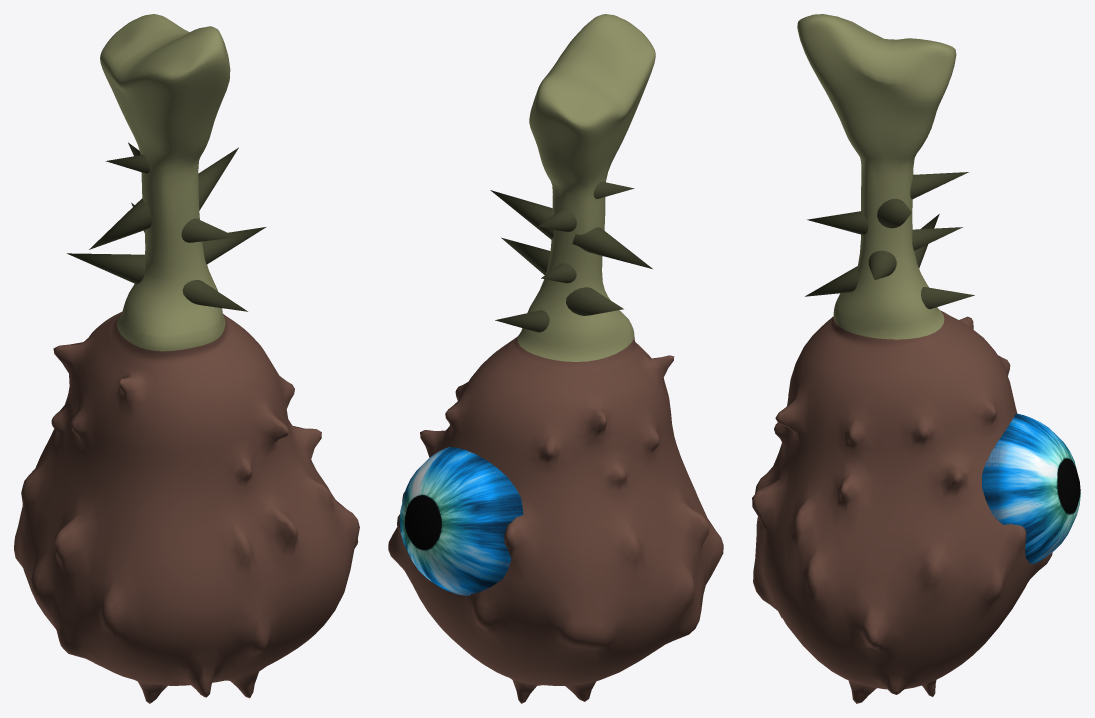
Rendered from chimkin.fbx.
The picture shows the model from 3 angles, left to right: view 1: azimuth 30°, elevation 25°; view 2: azimuth 150°, elevation 25°; view 3: azimuth 270°, elevation 25°; orthographic projection. The views are drawn at different scales.
Parts seen in each view (by area): view 1: polySurface86; view 2: polySurface86; view 3: polySurface86.
Part boxes in pixels (left/top/right/bottom): polySurface86: left=14, top=14, right=359, bottom=703; polySurface86: left=388, top=14, right=723, bottom=703; polySurface86: left=752, top=14, right=1080, bottom=703.
Bounding box in the file's own units: 3.31 × 7.15 × 3.19.
